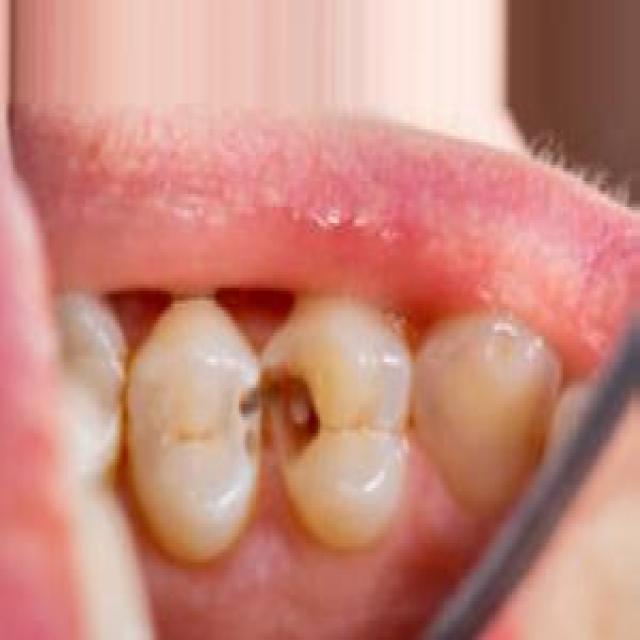caries: (220, 334, 341, 497)
